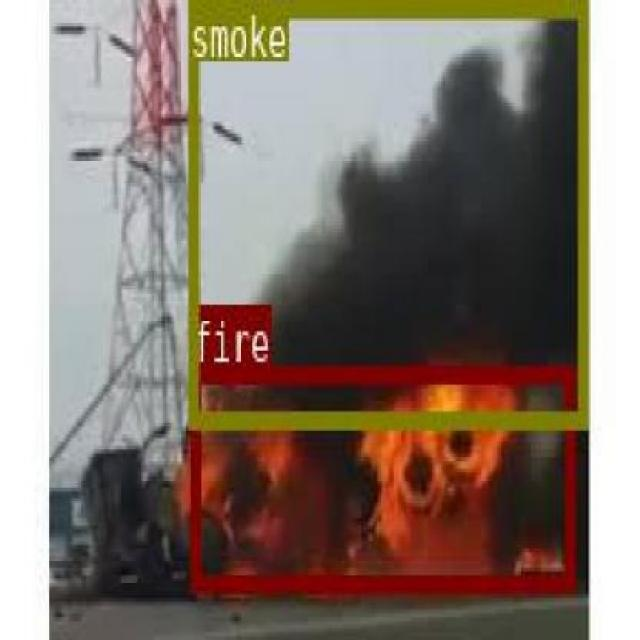Fire: (190, 364, 572, 588)
Smoke: (186, 0, 586, 426)
